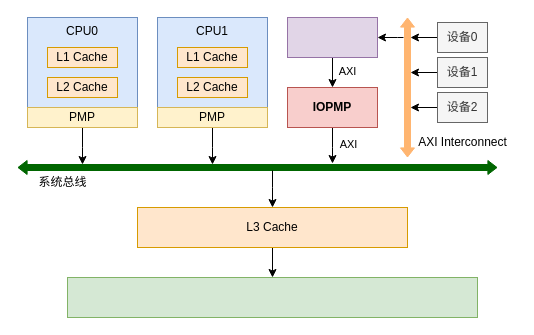
Image size: 534x335. Some labels were removed from this diagram. The shapes that lost their labels are listed below. From the top down, each one's centre as x and y in pixels, then its label:
At point 332,37: "DMA".
At point 272,297: "Memory".
